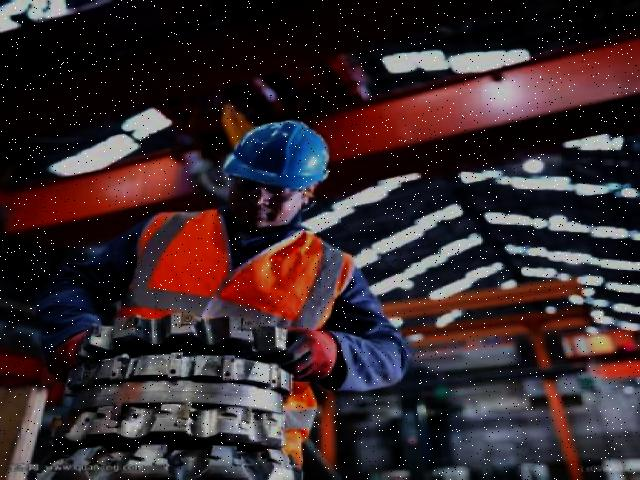Helmet: (217, 115, 335, 196)
